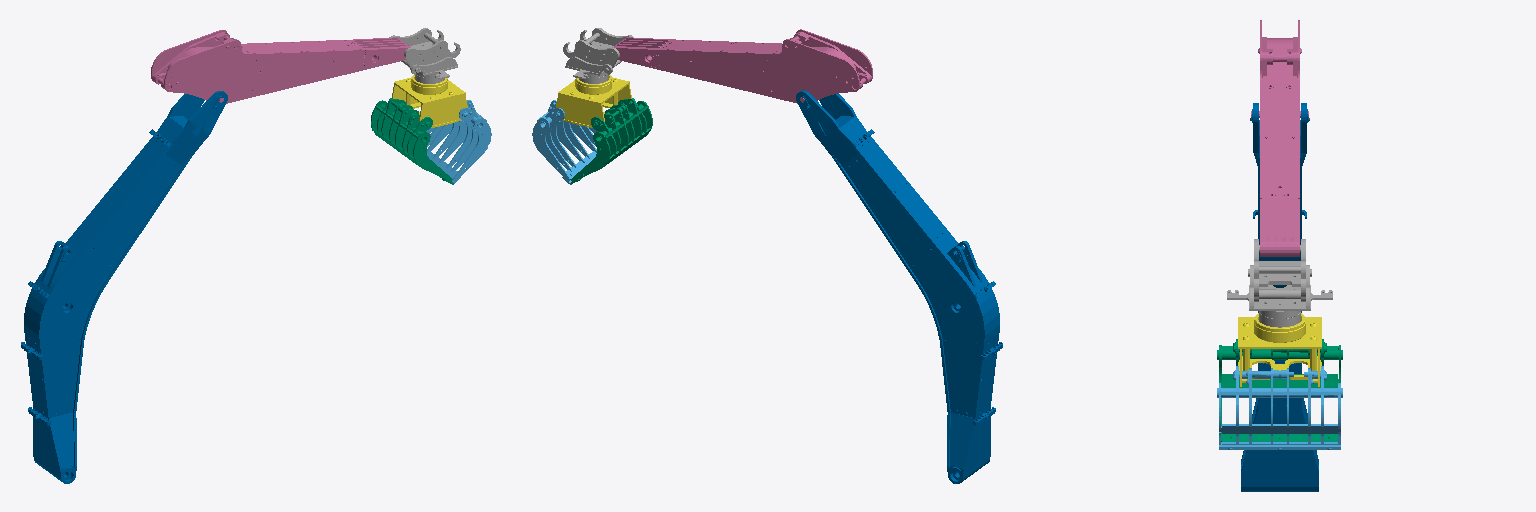
robot.urdf — kaivuri_excavator:
<?xml version="1.0" encoding="UTF-8"?>
<robot name="kaivuri_excavator">
  <joint name="gripper_claw_1_FixedJoint" type="fixed">
    <origin xyz="0.0261671 0. -0.0385303" rpy="-0.3665192 0. 1.5707964"/>
    <parent link="gripper_frame"/>
    <child link="gripper_claw_1"/>
  </joint>
  <joint name="gripper_claw_2_FixedJoint" type="fixed">
    <origin xyz="-0.0238304 0. -0.0385303" rpy="0. -0.3316125 -3.1415927"/>
    <parent link="gripper_frame"/>
    <child link="gripper_claw_2"/>
  </joint>
  <joint name="gripper_frame_FixedJoint" type="fixed">
    <origin xyz="0.0363731 -0. -0.0450618" rpy="0. 0. 0."/>
    <parent link="tool_body"/>
    <child link="gripper_frame"/>
  </joint>
  <joint name="lower_carriage_FixedJoint" type="fixed">
    <origin xyz="0. 0. 0." rpy="0. 0. 0."/>
    <parent link="excavator"/>
    <child link="lower_carriage"/>
  </joint>
  <joint name="revolute_cabin" type="revolute">
    <origin xyz="0. 0. 0." rpy="0. 0. 0."/>
    <parent link="lower_carriage"/>
    <child link="upper_carriage"/>
    <axis xyz="0. 0. 1."/>
    <limit lower="-8.0285146" upper="8.0285146" effort="100." velocity="1.0471976"/>
  </joint>
  <joint name="revolute_lift" type="revolute">
    <origin xyz="0.0171573 0. 0.0629643" rpy="0. 0. 0."/>
    <parent link="upper_carriage"/>
    <child link="lift_boom"/>
    <axis xyz="0. 1. 0."/>
    <limit lower="0." upper="1.3962634" effort="500." velocity="2.0943951"/>
  </joint>
  <joint name="revolute_scoop" type="revolute">
    <origin xyz="0.2496772 0. -0.0024304" rpy="0. 0. 0."/>
    <parent link="tilt_boom"/>
    <child link="tool_body"/>
    <axis xyz="0. 1. 0."/>
    <limit lower="-2.0943951" upper="0." effort="500." velocity="2.0943951"/>
  </joint>
  <joint name="revolute_tilt" type="revolute">
    <origin xyz="0.20564 0. 0.420085" rpy="0. 0. 0."/>
    <parent link="lift_boom"/>
    <child link="tilt_boom"/>
    <axis xyz="0. 1. 0."/>
    <limit lower="-0.5235988" upper="1.3962634" effort="500." velocity="2.0943951"/>
  </joint>
  <link name="excavator"/>
  <link name="gripper_claw_1">
    <inertial>
      <origin xyz="0. -0. -0." rpy="0. 0. 0."/>
      <mass value="0.215"/>
      <inertia ixx="0.001" ixy="0." ixz="-0." iyy="0.001" iyz="-0." izz="0.001"/>
    </inertial>
    <visual>
      <origin xyz="0. -0. -0." rpy="0. 0. -0."/>
      <geometry>
        <mesh filename="package://kaivuri_description/meshes/gripper_claw_1_Mesh.obj" scale="1. 1. 1."/>
      </geometry>
    </visual>
    <collision>
      <origin xyz="0. -0. -0." rpy="0. 0. -0."/>
      <geometry>
        <mesh filename="package://kaivuri_description/meshes/gripper_claw_1_Mesh.obj" scale="1. 1. 1."/>
      </geometry>
    </collision>
  </link>
  <link name="gripper_claw_2">
    <inertial>
      <origin xyz="0. 0. -0." rpy="0. 0. 0."/>
      <mass value="0.215"/>
      <inertia ixx="0.001" ixy="-0." ixz="-0." iyy="0.001" iyz="-0." izz="0.001"/>
    </inertial>
    <visual>
      <origin xyz="0. 0. -0." rpy="0. 0. 1.5707964"/>
      <geometry>
        <mesh filename="package://kaivuri_description/meshes/gripper_claw_2_Mesh.obj" scale="1. 1. 1."/>
      </geometry>
    </visual>
    <collision>
      <origin xyz="0. 0. -0." rpy="0. 0. 1.5707964"/>
      <geometry>
        <mesh filename="package://kaivuri_description/meshes/gripper_claw_2_Mesh.obj" scale="1. 1. 1."/>
      </geometry>
    </collision>
  </link>
  <link name="gripper_frame">
    <inertial>
      <origin xyz="-0. 0. -0." rpy="0. 0. 0."/>
      <mass value="0.07"/>
      <inertia ixx="0.001" ixy="0." ixz="0." iyy="0.001" iyz="0." izz="0.001"/>
    </inertial>
    <visual>
      <origin xyz="-0. 0. -0." rpy="0. 0. 1.5707964"/>
      <geometry>
        <mesh filename="package://kaivuri_description/meshes/gripper_frame_Mesh.obj" scale="1. 1. 1."/>
      </geometry>
    </visual>
    <collision>
      <origin xyz="-0. 0. -0." rpy="0. 0. 1.5707964"/>
      <geometry>
        <mesh filename="package://kaivuri_description/meshes/gripper_frame_Mesh.obj" scale="1. 1. 1."/>
      </geometry>
    </collision>
  </link>
  <link name="lift_boom">
    <inertial>
      <origin xyz="0. 0.00005 0. " rpy="0. 0. 0."/>
      <mass value="1.14"/>
      <inertia ixx="0.001" ixy="-0." ixz="0." iyy="0.001" iyz="-0." izz="0.001"/>
    </inertial>
    <visual>
      <origin xyz="0. 0.00005 0. " rpy="1.5710484 0. -1.5707964"/>
      <geometry>
        <mesh filename="package://kaivuri_description/meshes/lift_boom_Mesh.obj" scale="1. 1. 1."/>
      </geometry>
    </visual>
    <collision>
      <origin xyz="0. 0.00005 0. " rpy="1.5710484 0. -1.5707964"/>
      <geometry>
        <mesh filename="package://kaivuri_description/meshes/lift_boom_Mesh.obj" scale="1. 1. 1."/>
      </geometry>
    </collision>
  </link>
  <link name="lower_carriage">
    <inertial>
      <origin xyz="0.0032417 -0.000002 -0.0433429" rpy="0. 0. 0."/>
      <mass value="10."/>
      <inertia ixx="0.0476341" ixy="-0.0000258" ixz="0.0001417" iyy="0.0847687" iyz="-0.000145" izz="0.1238072"/>
    </inertial>
    <visual>
      <origin xyz="0. 0. 0." rpy="0. 0. 0."/>
      <geometry>
        <mesh filename="package://kaivuri_description/meshes/lower_carriage_Mesh.obj" scale="1. 1. 1."/>
      </geometry>
    </visual>
    <collision>
      <origin xyz="0. 0. 0." rpy="0. 0. 0."/>
      <geometry>
        <mesh filename="package://kaivuri_description/meshes/lower_carriage_Mesh.obj" scale="1. 1. 1."/>
      </geometry>
    </collision>
  </link>
  <link name="tilt_boom">
    <inertial>
      <origin xyz="-0. 0. 0." rpy="0. 0. 0."/>
      <mass value="0.78"/>
      <inertia ixx="0.001" ixy="0." ixz="0." iyy="0.001" iyz="0." izz="0.001"/>
    </inertial>
    <visual>
      <origin xyz="-0. 0. 0." rpy="0. 0. 0."/>
      <geometry>
        <mesh filename="package://kaivuri_description/meshes/tilt_boom_Mesh.obj" scale="1. 1. 1."/>
      </geometry>
    </visual>
    <collision>
      <origin xyz="-0. 0. 0." rpy="0. 0. 0."/>
      <geometry>
        <mesh filename="package://kaivuri_description/meshes/tilt_boom_Mesh.obj" scale="1. 1. 1."/>
      </geometry>
    </collision>
  </link>
  <link name="tool_body">
    <inertial>
      <origin xyz="0.0001261 -0. -0.0000618" rpy="0. 0. 0."/>
      <mass value="0.11"/>
      <inertia ixx="0.001" ixy="0." ixz="0." iyy="0.001" iyz="0." izz="0.001"/>
    </inertial>
    <visual>
      <origin xyz="0.0001261 -0. -0.0000618" rpy="0. 0. 0."/>
      <geometry>
        <mesh filename="package://kaivuri_description/meshes/tool_body_Mesh.obj" scale="1. 1. 1."/>
      </geometry>
    </visual>
    <collision>
      <origin xyz="0.0001261 -0. -0.0000618" rpy="0. 0. 0."/>
      <geometry>
        <mesh filename="package://kaivuri_description/meshes/tool_body_Mesh.obj" scale="1. 1. 1."/>
      </geometry>
    </collision>
  </link>
  <link name="upper_carriage">
    <inertial>
      <origin xyz="0. 0. 0." rpy="0. 0. 0."/>
      <mass value="15."/>
      <inertia ixx="0.001" ixy="0." ixz="0." iyy="0.001" iyz="0." izz="0.001"/>
    </inertial>
    <visual>
      <origin xyz="0. 0. 0." rpy="0. 0. -1.5707964"/>
      <geometry>
        <mesh filename="package://kaivuri_description/meshes/upper_carriage_Mesh.obj" scale="1. 1. 1."/>
      </geometry>
    </visual>
    <collision>
      <origin xyz="0. 0. 0." rpy="0. 0. -1.5707964"/>
      <geometry>
        <mesh filename="package://kaivuri_description/meshes/upper_carriage_Mesh.obj" scale="1. 1. 1."/>
      </geometry>
    </collision>
  </link>
</robot>

--- Facts derived from the render (not from the file) ---
3 views of the same robot in one strip: view 1: azimuth 30°, elevation 25°; view 2: azimuth 150°, elevation 25°; view 3: azimuth 270°, elevation 25° (orthographic).
Model kaivuri_excavator with 9 links and 8 joints (4 revolute, 4 fixed), rooted at excavator, posed all joints at 0.
Links seen in each view (by area): view 1: lift_boom, tilt_boom, gripper_claw_2, gripper_claw_1, gripper_frame, tool_body; view 2: lift_boom, tilt_boom, gripper_claw_2, gripper_claw_1, gripper_frame, tool_body; view 3: tilt_boom, lift_boom, gripper_claw_1, tool_body, gripper_frame, gripper_claw_2.
Boxes of the visible links, bbox=[...] form: lift_boom: bbox=[21, 91, 227, 483]; tilt_boom: bbox=[151, 30, 410, 103]; gripper_claw_2: bbox=[371, 98, 452, 183]; gripper_claw_1: bbox=[426, 100, 491, 184]; gripper_frame: bbox=[392, 75, 467, 127]; tool_body: bbox=[389, 28, 460, 83]; lift_boom: bbox=[796, 90, 1002, 483]; tilt_boom: bbox=[614, 29, 872, 103]; gripper_claw_2: bbox=[570, 98, 652, 183]; gripper_claw_1: bbox=[532, 100, 597, 184]; gripper_frame: bbox=[556, 75, 631, 127]; tool_body: bbox=[563, 28, 633, 83]; tilt_boom: bbox=[1251, 20, 1308, 256]; lift_boom: bbox=[1241, 103, 1318, 491]; gripper_claw_1: bbox=[1217, 366, 1342, 449]; tool_body: bbox=[1227, 239, 1332, 327]; gripper_frame: bbox=[1238, 313, 1321, 387]; gripper_claw_2: bbox=[1217, 339, 1342, 441].
Size in the robot's own frame: 0.5792 by 0.1011 by 0.4971 metres.
Meshes: 8 distinct files referenced, 6 mesh visuals loaded (6 OBJ); not drawn: 2 (reference not matched to a file when rendering).
